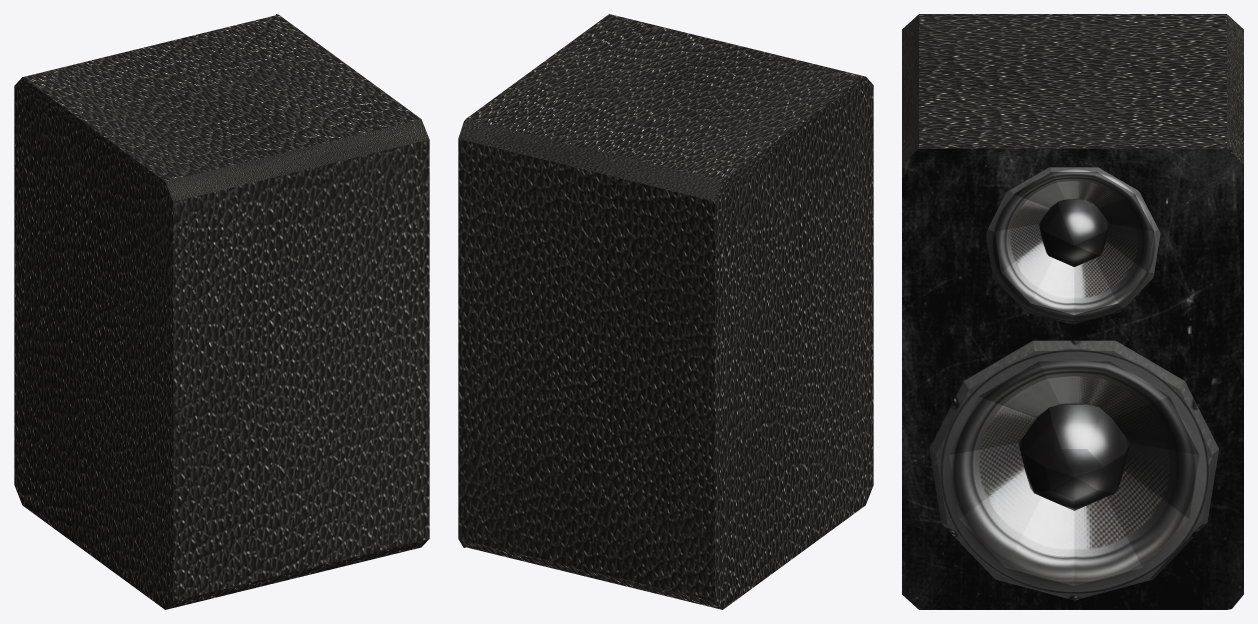
Rendered from speakers_low_poly.glb.
3 views of the same model, side by side, from view 1: azimuth 30°, elevation 25°; view 2: azimuth 150°, elevation 25°; view 3: azimuth 270°, elevation 25° (orthographic). The views are drawn at different scales.
Parts seen in each view (by area): view 1: polySurface11_lambert3_0; view 2: polySurface11_lambert3_0; view 3: polySurface11_lambert3_0, polySurface11_lambert2_0.
Boxes of the visible parts, x1,y1,x2,y2 form: polySurface11_lambert3_0: [14, 14, 429, 609]; polySurface11_lambert3_0: [458, 14, 873, 609]; polySurface11_lambert3_0: [902, 14, 1243, 609]; polySurface11_lambert2_0: [929, 167, 1218, 600].
Size of the model in its own units: 0.9928 by 1.53 by 1.03.
Materials: 2 (2 with a texture image).
